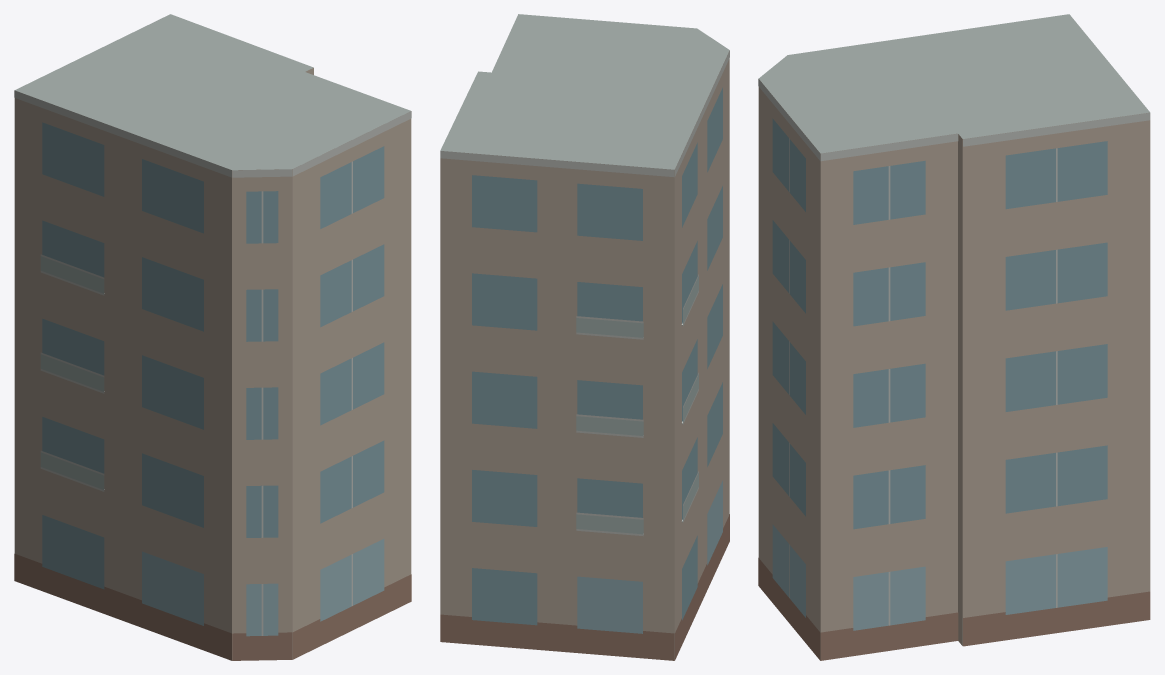
The model's file is survey-upis-32576619.glb.
3 renders of one model, left to right at view 1: azimuth 30°, elevation 25°; view 2: azimuth 150°, elevation 25°; view 3: azimuth 270°, elevation 25°, orthographic. The views are drawn at different scales.
Parts seen in each view (by area): view 1: survey-upis-32576619.tmp; view 2: survey-upis-32576619.tmp; view 3: survey-upis-32576619.tmp.
Boxes of the visible parts, x1=… form: survey-upis-32576619.tmp: x1=14, y1=14, x2=411, y2=660; survey-upis-32576619.tmp: x1=440, y1=14, x2=729, y2=660; survey-upis-32576619.tmp: x1=758, y1=14, x2=1150, y2=660.
Size of the model in its own units: 9.45 by 16 by 11.21.
